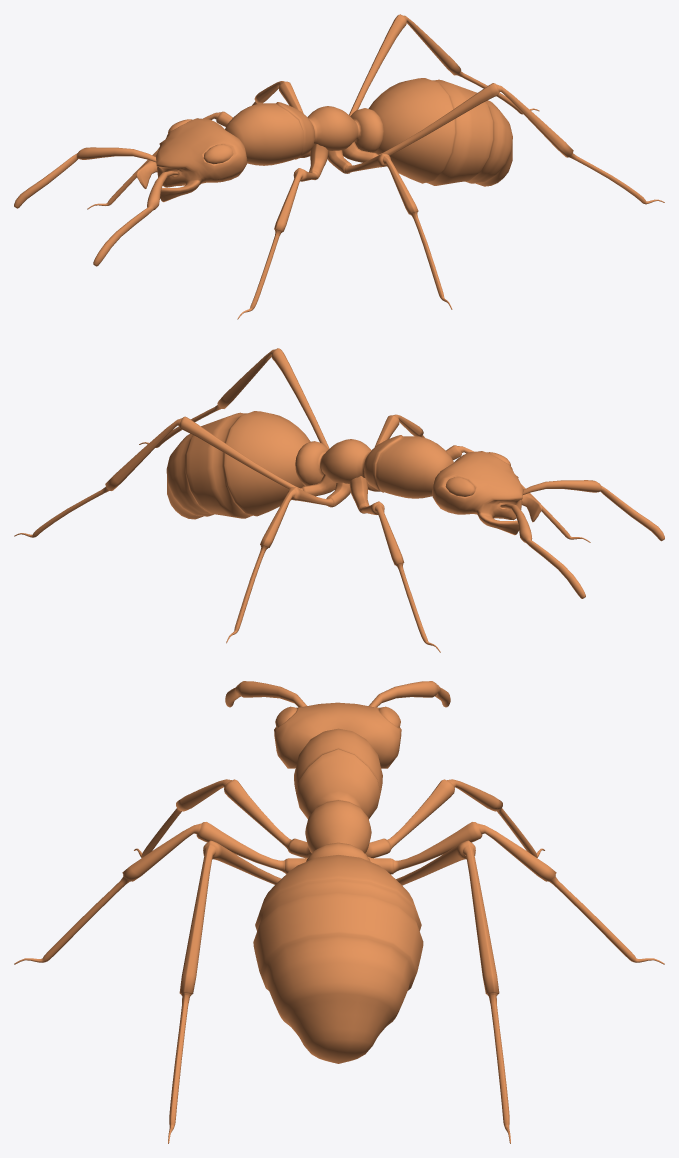
Rendered from ant1.obj.
The picture shows the model from 3 angles, top to bottom: view 1: azimuth 30°, elevation 25°; view 2: azimuth 150°, elevation 25°; view 3: azimuth 270°, elevation 25°; orthographic projection. The views are drawn at different scales.
Visible parts, largest first — view 1: Sphere.002_Sphere; view 2: Sphere.002_Sphere; view 3: Sphere.002_Sphere.
Boxes of the visible parts, box(x1,y1,x2,y2) form: Sphere.002_Sphere: box(14, 14, 664, 319); Sphere.002_Sphere: box(14, 348, 664, 652); Sphere.002_Sphere: box(14, 681, 664, 1143).
Size of the model in its own units: 2.3 by 0.5861 by 1.73.
